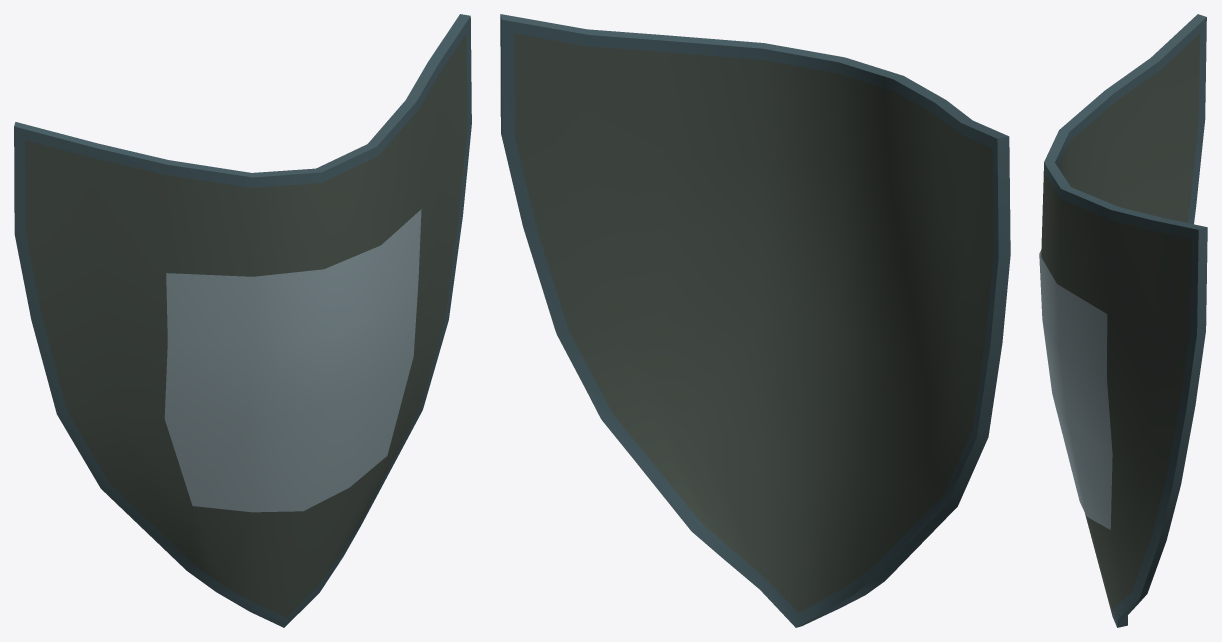
File: Shield_1.fbx
3 renders of one model, left to right at view 1: azimuth 30°, elevation 25°; view 2: azimuth 150°, elevation 25°; view 3: azimuth 270°, elevation 25°, orthographic. The views are drawn at different scales.
Parts seen in each view (by area): view 1: Shield_Body, Logo; view 2: Shield_Body; view 3: Shield_Body, Logo.
Part boxes in pixels (x1,y1,x2,y2): Shield_Body: (14,14,471,627); Logo: (164,209,421,512); Shield_Body: (500,14,1010,627); Shield_Body: (1041,14,1207,627); Logo: (1039,250,1112,529).
Size of the model in its own units: 3.75 by 4.12 by 1.24.
